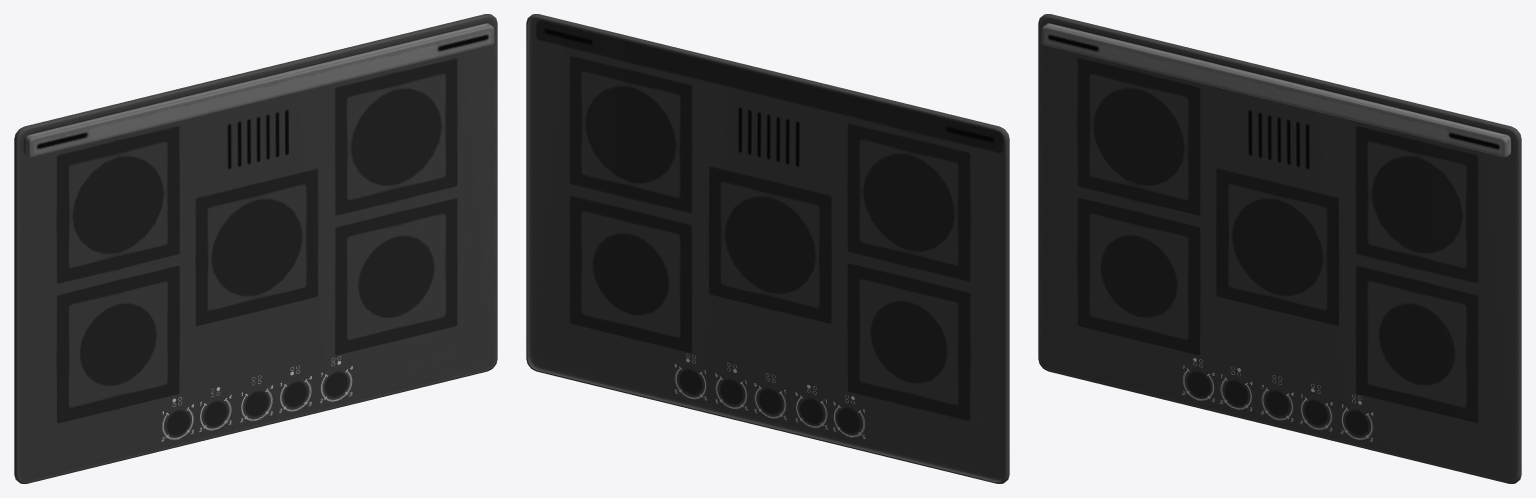
The model's file is stovetop_main_group_main_model_1.obj.
The picture shows the model from 3 angles, left to right: view 1: azimuth 30°, elevation 25°; view 2: azimuth 150°, elevation 25°; view 3: azimuth 330°, elevation 25°; orthographic projection.
Size of the model in its own units: 1 by 0.7066 by 0.0293.
Materials: 1 (1 with a texture image).
